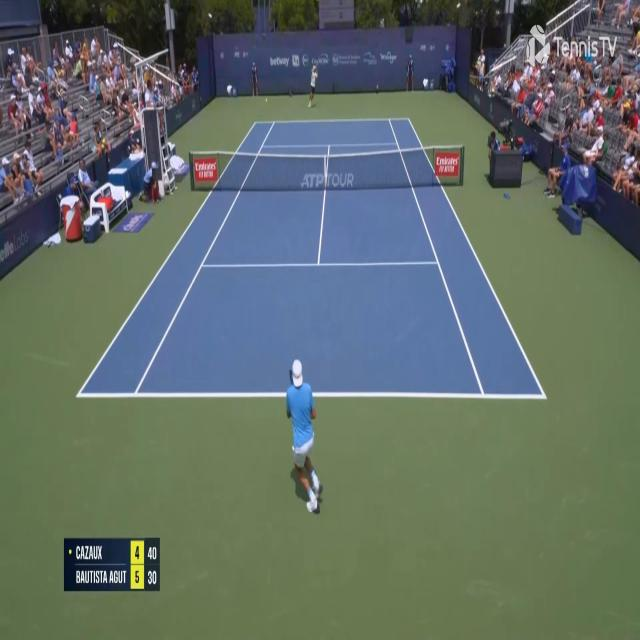tennis-player: (284, 356, 324, 516), (306, 63, 318, 108)
